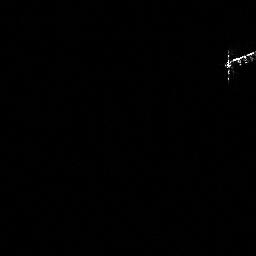ship: (221, 47, 256, 83)
